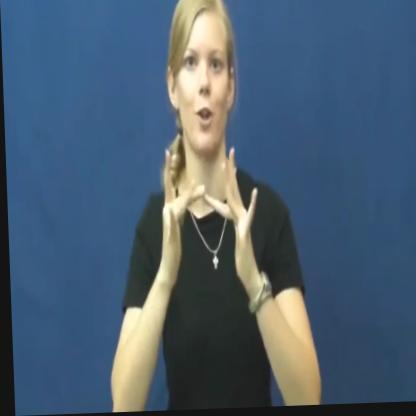Internet: (156, 142, 259, 300)
